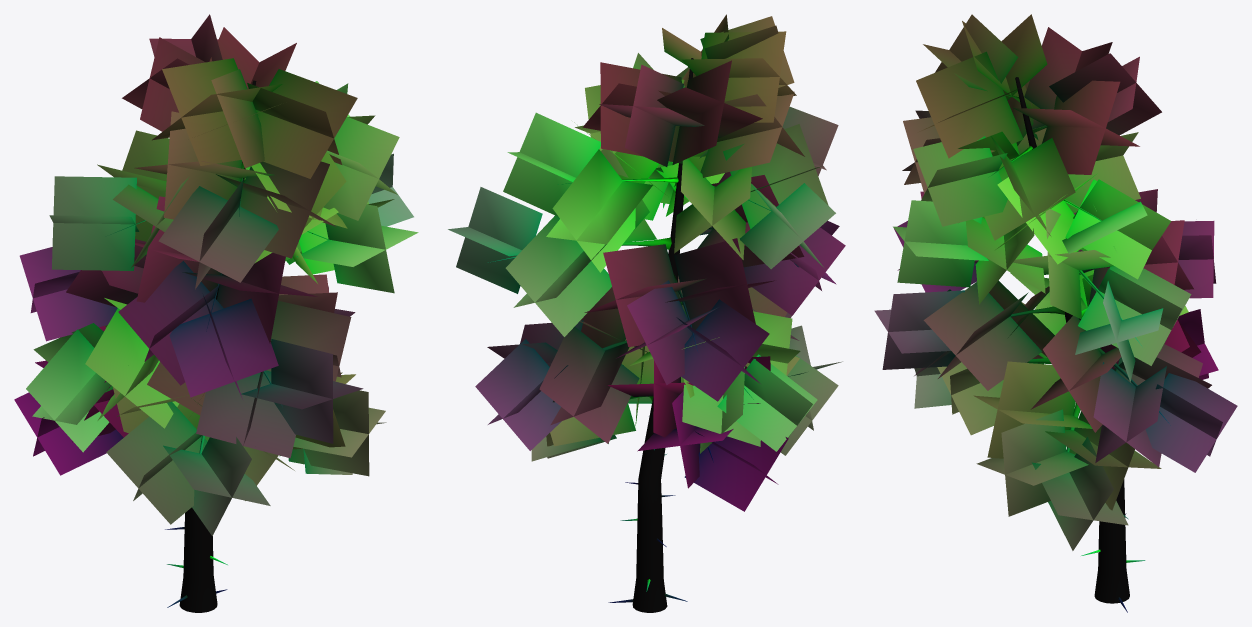
Rendered from M_P7_Tree_2.fbx.
3 views of the same model, side by side, from view 1: azimuth 30°, elevation 25°; view 2: azimuth 150°, elevation 25°; view 3: azimuth 270°, elevation 25° (orthographic). The views are drawn at different scales.
Parts seen in each view (by area): view 1: Tree_2; view 2: Tree_2; view 3: Tree_2.
Part boxes in pixels (x1=…): Tree_2: x1=14, y1=14, x2=418, y2=612; Tree_2: x1=448, y1=14, x2=845, y2=612; Tree_2: x1=874, y1=14, x2=1237, y2=612.
Size of the model in its own units: 274 by 411 by 245.
